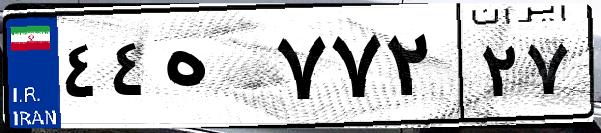2: (385, 28, 445, 110), (475, 38, 525, 113)
4: (57, 26, 110, 100), (110, 28, 158, 98)
7: (270, 28, 330, 110), (330, 28, 385, 110), (525, 38, 570, 115)
ه: (158, 20, 270, 120)
